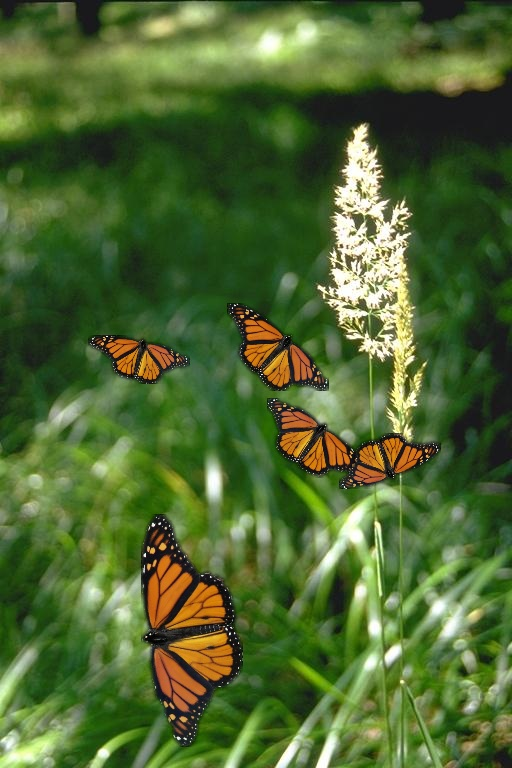danaus_plexippus: (141, 514, 243, 747), (227, 303, 329, 391), (267, 398, 369, 478), (339, 433, 441, 489), (88, 335, 190, 384)
